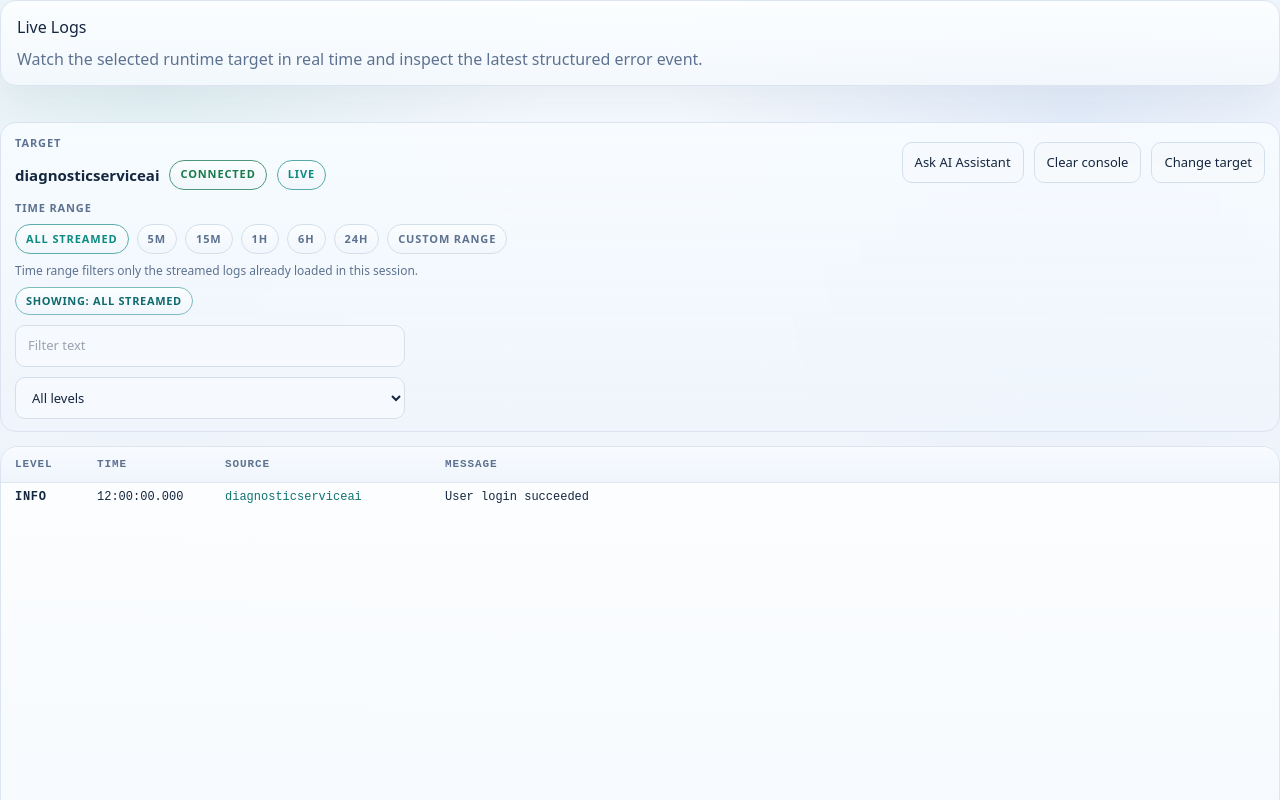
it: LiveLogsPage › shows a time-range-specific empty state when the selected interval has no lines
Click the button "5m": (157, 239) top-left (137, 224), bottom-right (177, 254)
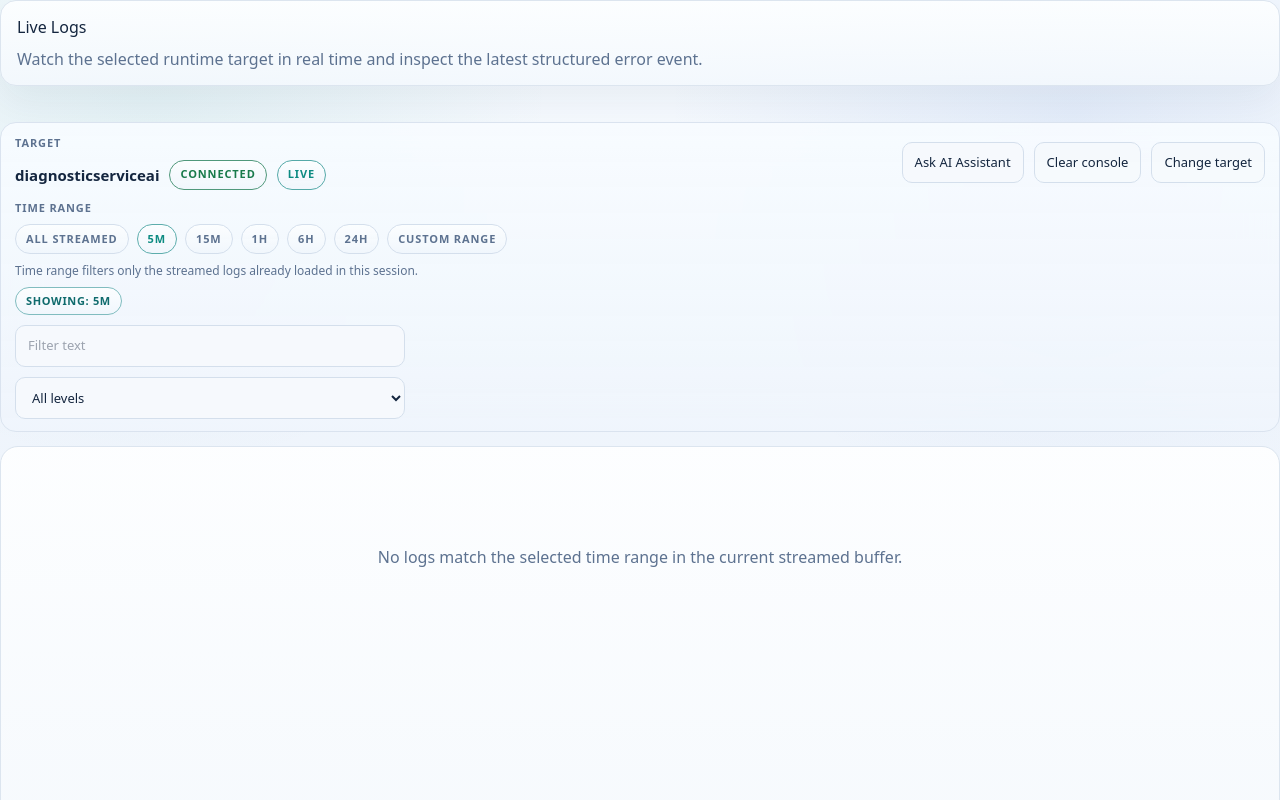
Now the text "No logs match the selected time range" is shown, box top-left (378, 546), bottom-right (902, 568)
